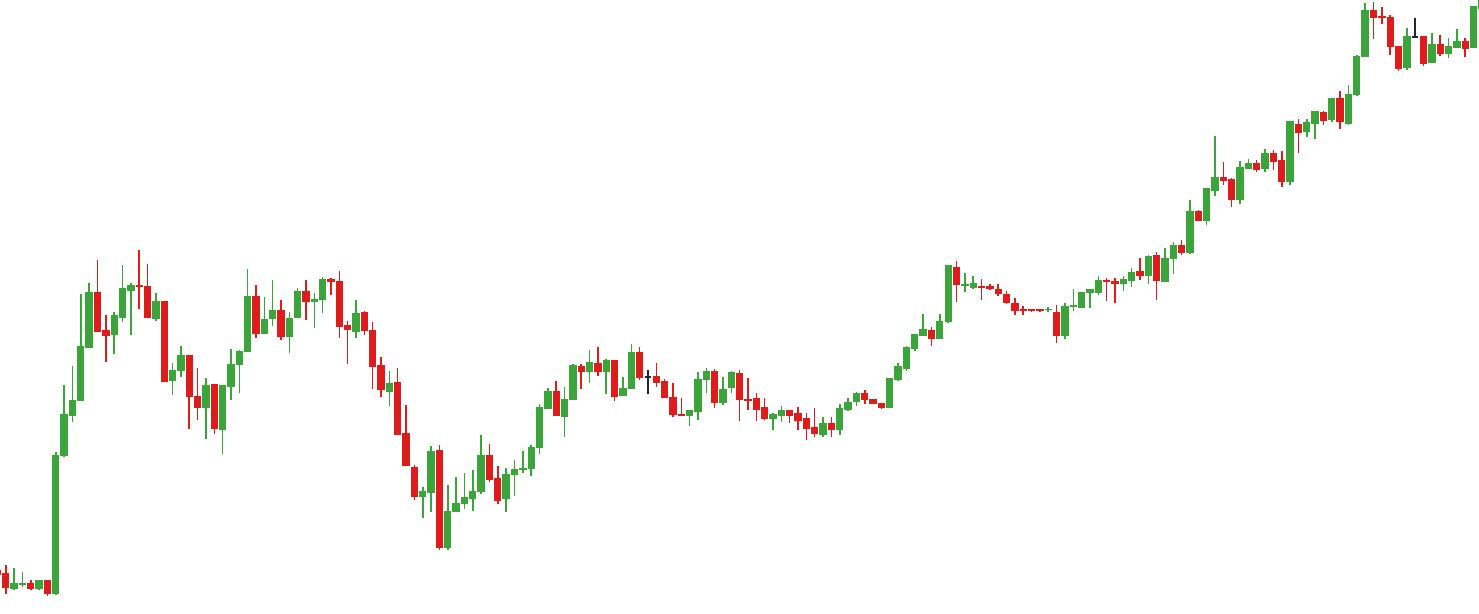sell: (92, 245, 152, 332)
